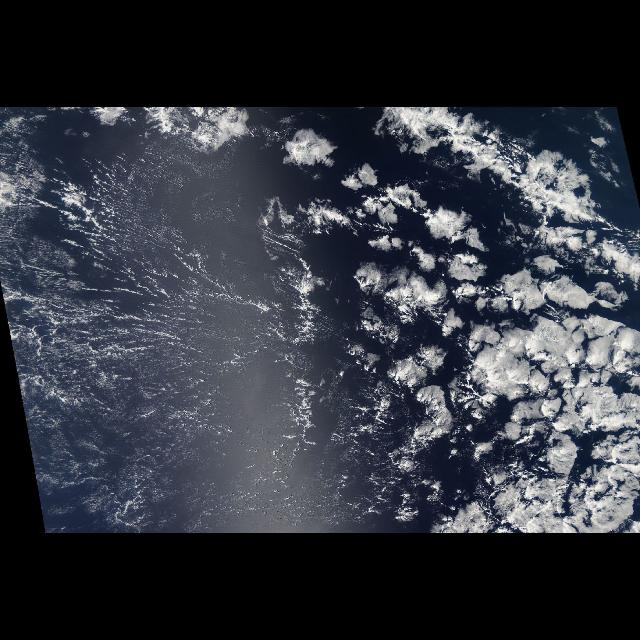Flower: (274, 115, 636, 530)
Sugar: (8, 145, 278, 527)
